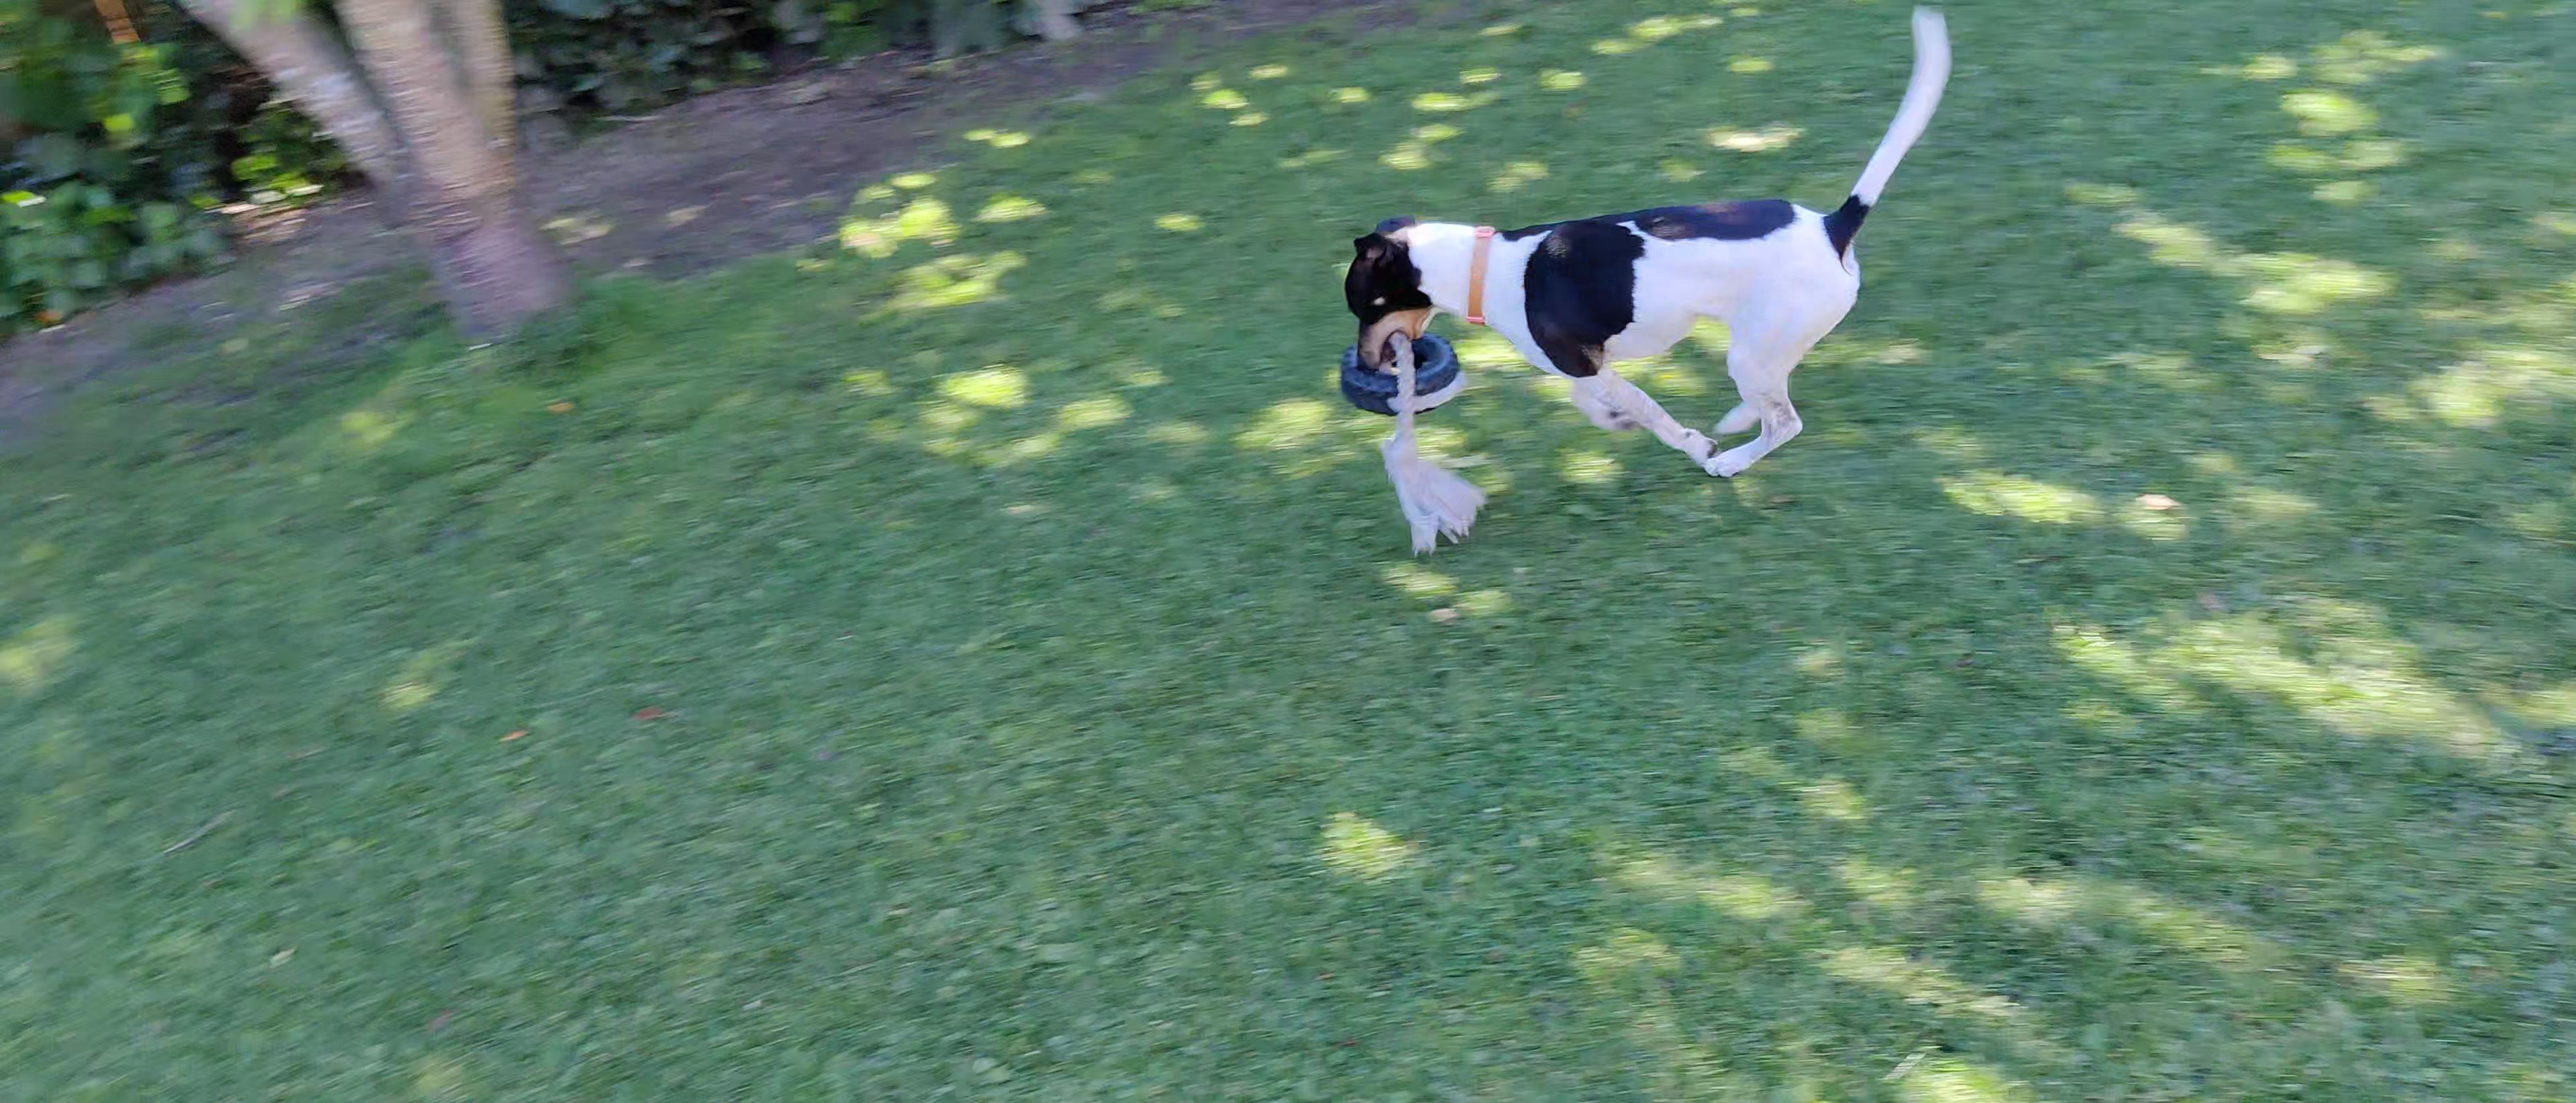Dog: (1342, 3, 1953, 480)
